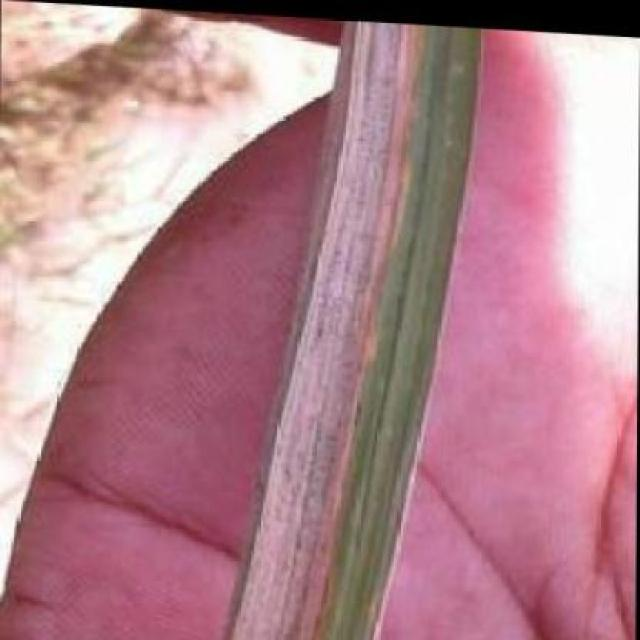Brown_Spot: (269, 35, 406, 640)
